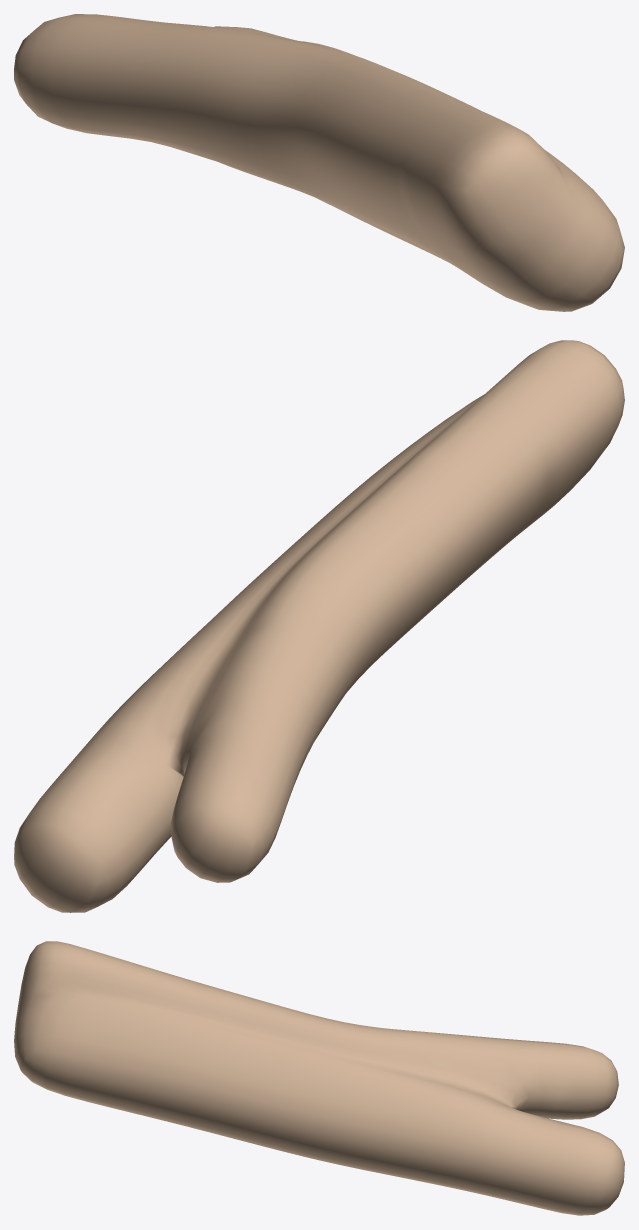
3 views of the same model, one above another, from view 1: azimuth 30°, elevation 25°; view 2: azimuth 150°, elevation 25°; view 3: azimuth 270°, elevation 25° (orthographic). The views are drawn at different scales.
Parts seen in each view (by area): view 1: 左侧桡侧腕伸肌腱鞘; view 2: 左侧桡侧腕伸肌腱鞘; view 3: 左侧桡侧腕伸肌腱鞘.
Boxes of the visible parts, bbox=[...] form: 左侧桡侧腕伸肌腱鞘: bbox=[14, 14, 624, 311]; 左侧桡侧腕伸肌腱鞘: bbox=[14, 340, 624, 912]; 左侧桡侧腕伸肌腱鞘: bbox=[14, 941, 624, 1215].
Bounding box in the file's own units: 0.0156 × 0.0195 × 0.0477.
